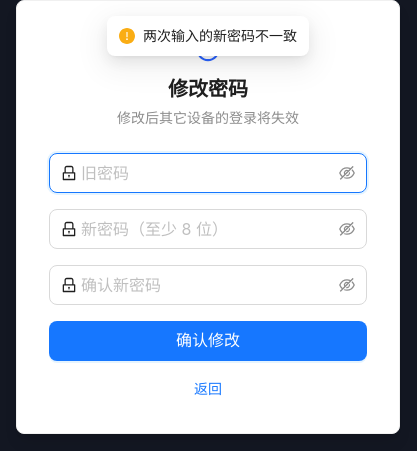
Test: ChangePassword 页 › 旧密码错误 → 401 bad_old_password 提示
The width and height of the screenshot is (417, 451).
Expected: the button with test id "change-pwd-submit" is shown, [49,321,367,361]
In the password field with test id "change-pwd-old": (208, 173) [81,161,335,185], type "wrong-old"
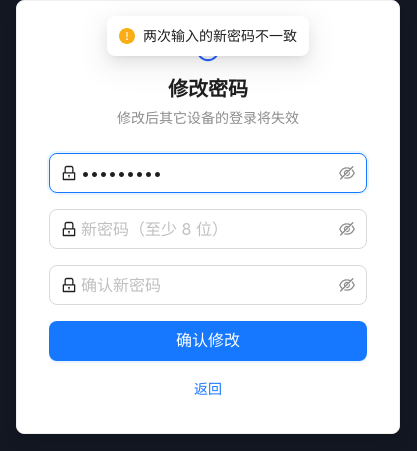
In the password field with test id "change-pwd-new": (208, 229) [81,217,335,241], type "new-password1"
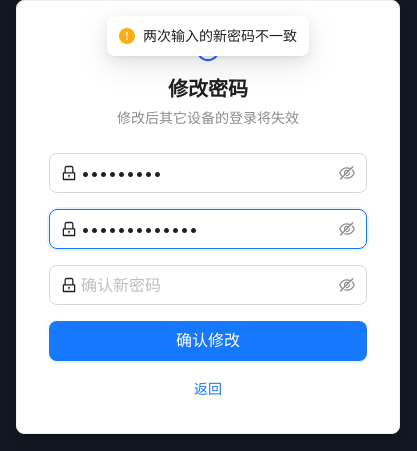
In the password field with test id "change-pwd-confirm": (208, 285) [81,273,335,297], type "new-password1"
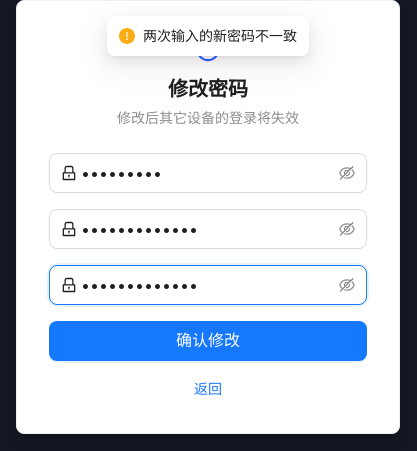
Click the button with test id "change-pwd-submit": (208, 341) [49,321,367,361]
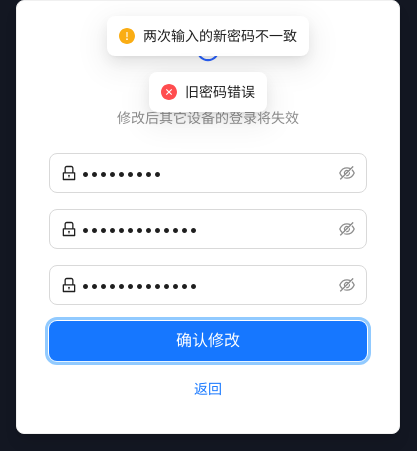
Expected: the text "旧密码错误" is shown, [185,81,255,103]
